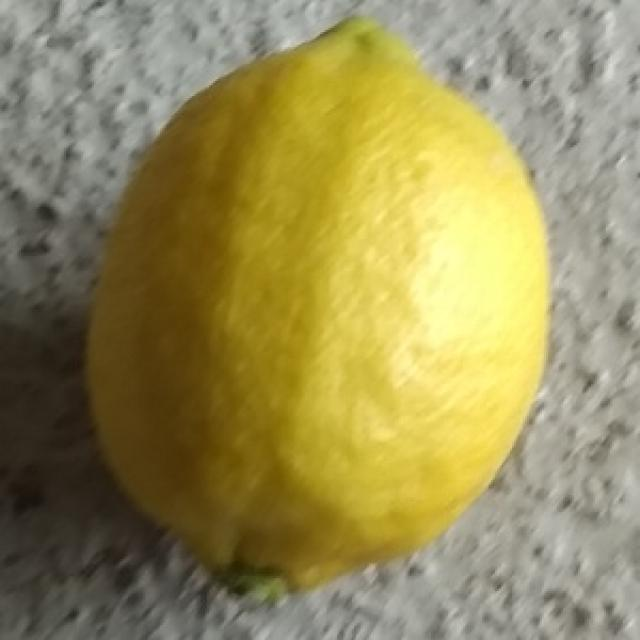Lemon: (78, 12, 553, 612)
